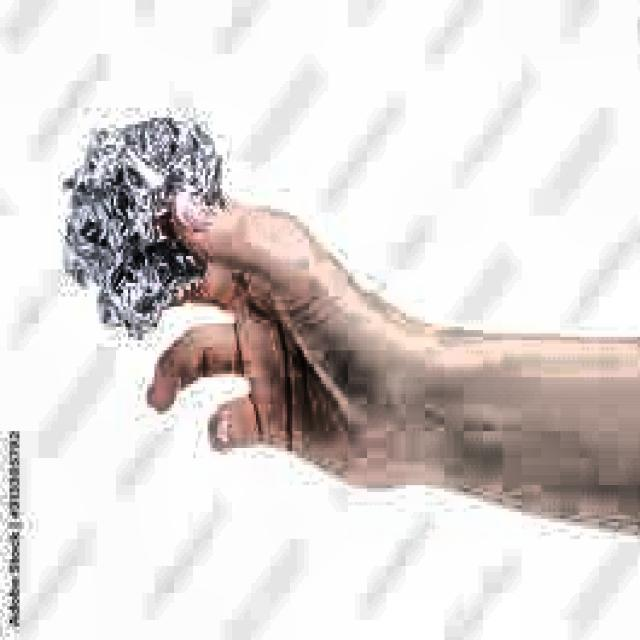Foil: (54, 96, 249, 342)
